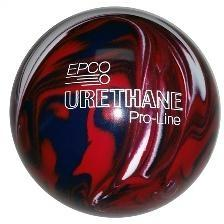Sports-Ball: (10, 5, 219, 222)
